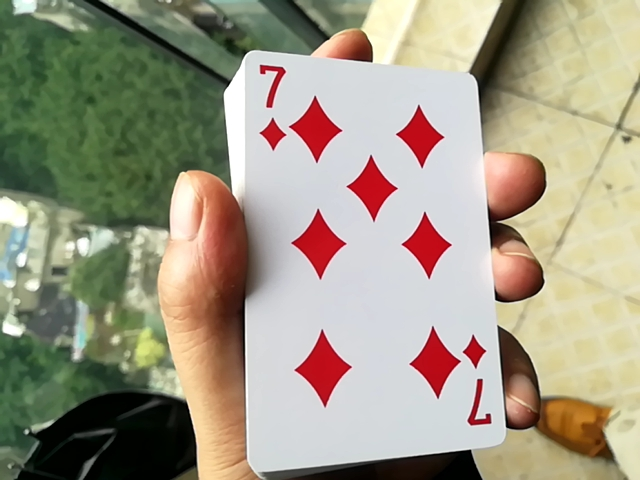fk 7: (219, 33, 499, 474)
